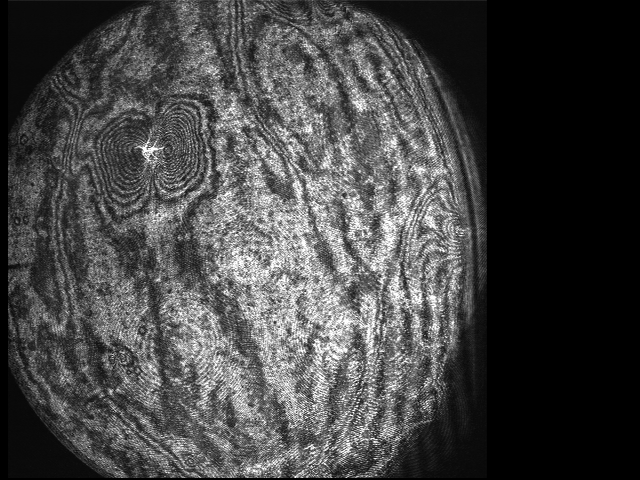plume: (94, 102, 206, 203)
